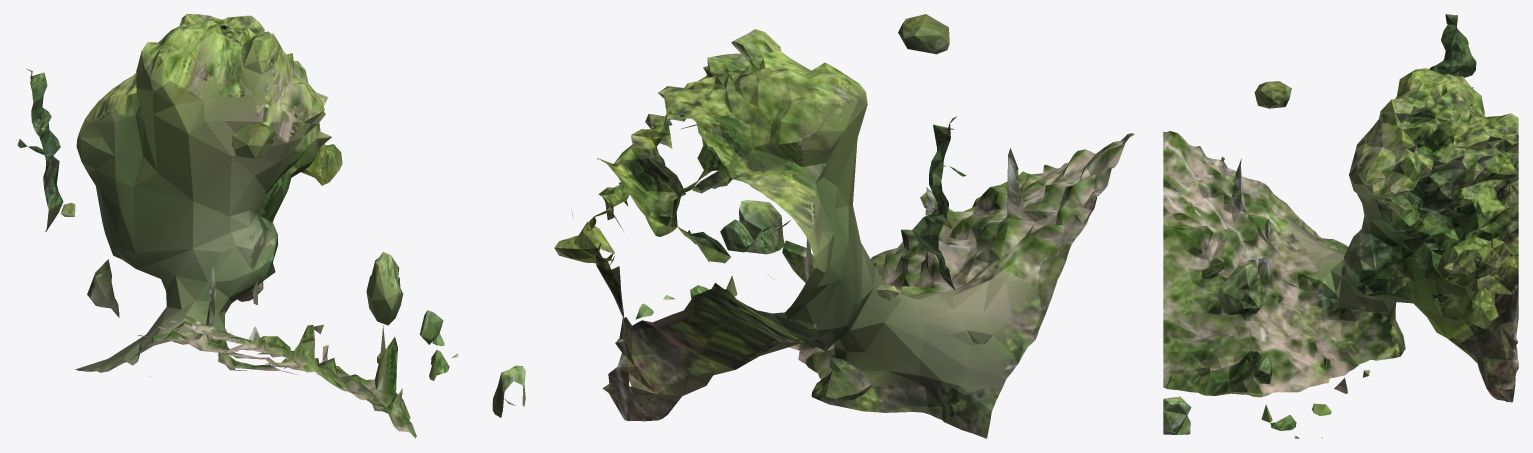
The picture shows the model from 3 angles, left to right: view 1: azimuth 30°, elevation 25°; view 2: azimuth 150°, elevation 25°; view 3: azimuth 270°, elevation 25°; orthographic projection. The views are drawn at different scales.
Bounding box in the file's own units: 26.11 × 22.89 × 26.11.
Materials: 5 (5 with a texture image).
